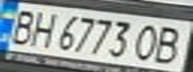3: (106, 18, 136, 60)
6: (51, 11, 81, 52)
7: (69, 15, 97, 54), (90, 16, 115, 57)
B: (148, 24, 190, 65), (0, 7, 42, 46)
H: (24, 8, 60, 48)
O: (127, 21, 166, 62)
